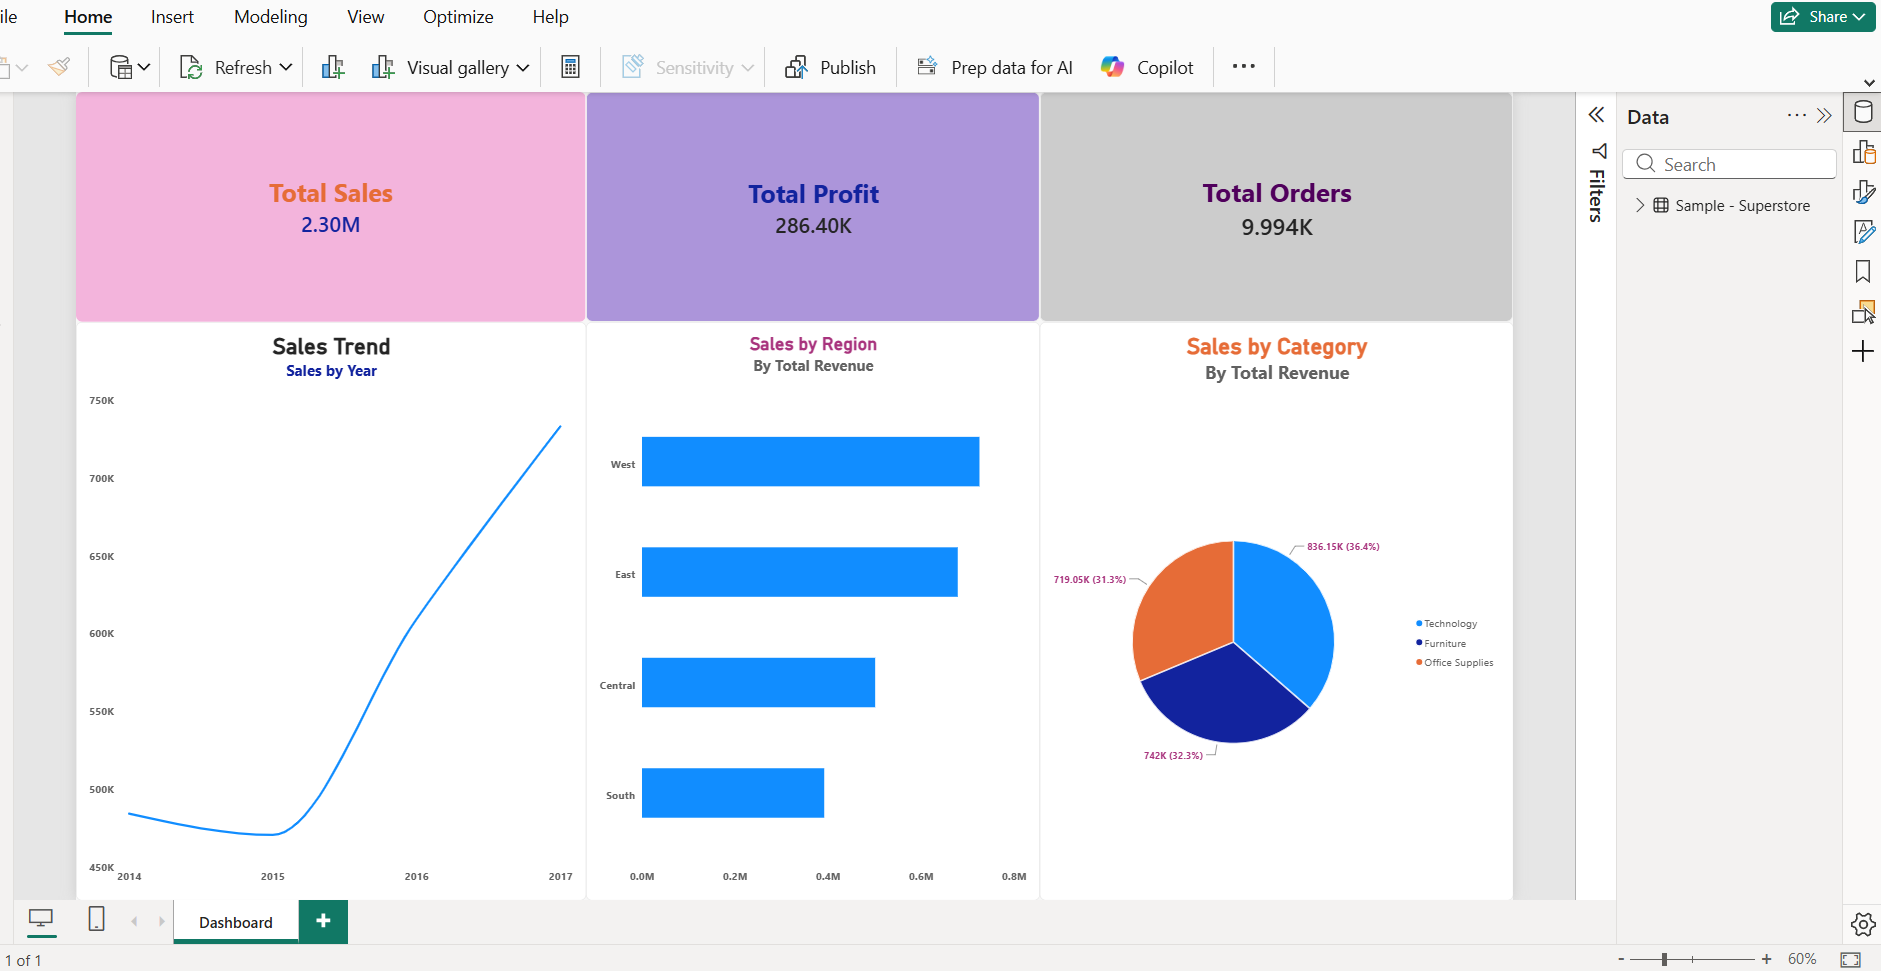

Layout of this report page (visuals, bound fields, positions):
{"tool":"powerbi","page":{"name":"Dashboard","canvas":[1920,1080],"ordinal":0},"visuals":[{"type":"cardVisual","title":"Total sales","fields":{"Data":["Sum(Sample - Superstore.Sales)"]},"box":[0,0,681.3,307.2],"z":0},{"type":"cardVisual","fields":{"Data":["Sum(Sample - Superstore.Profit)"]},"box":[681.3,0,606.1,307.2],"z":1},{"type":"cardVisual","fields":{"Data":["CountNonNull(Sample - Superstore.Order ID)"]},"box":[1287.4,0,632.8,307.2],"z":2},{"type":"lineChart","title":" Sales Trend","fields":{"Category":["Sample - Superstore.Order Date.Variation.Date Hierarchy.Year","Sample - Superstore.Order Date.Variation.Date Hierarchy.Quarter","Sample - Superstore.Order Date.Variation.Date Hierarchy.Month","Sample - Superstore.Order Date.Variation.Date Hierarchy.Day"],"Y":["Sum(Sample - Superstore.Sales)"]},"box":[0,307.2,681.3,773.1],"z":3},{"type":"clusteredBarChart","title":"Sales by Region","fields":{"Category":["Sample - Superstore.Region"],"Y":["Sum(Sample - Superstore.Sales)"]},"box":[681.3,307.2,606.1,773.1],"z":4},{"type":"pieChart","title":"Sales by Category","fields":{"Category":["Sample - Superstore.Category"],"Y":["Sum(Sample - Superstore.Sales)"]},"box":[1287.4,307.2,632.8,773.1],"z":5}]}

Visuals, with their boxes on the page's 1920x1080 design canvas (x1, y1, x2, y2). These are canvas units, not pixel positions in the 1881x971 screenshot, which may show the page scaled, cropped or inside an application window:
"Total sales" cardVisual: 0:0:681:307
cardVisual - Sum(Sample - Superstore.Profit): 681:0:1287:307
cardVisual - CountNonNull(Sample - Superstore.Order ID): 1287:0:1920:307
" Sales Trend" lineChart: 0:307:681:1080
"Sales by Region" clusteredBarChart: 681:307:1287:1080
"Sales by Category" pieChart: 1287:307:1920:1080
